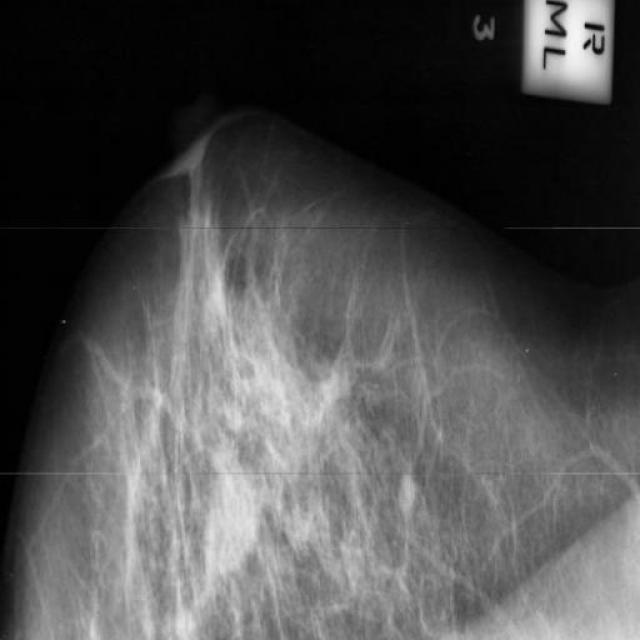cancer: (196, 444, 270, 581)
